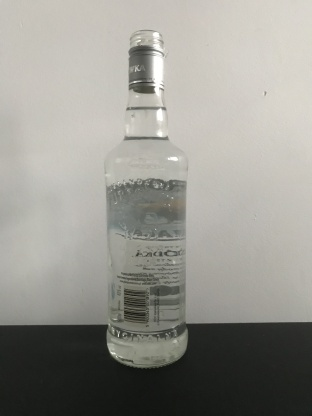nakretka: (126, 26, 166, 93)
